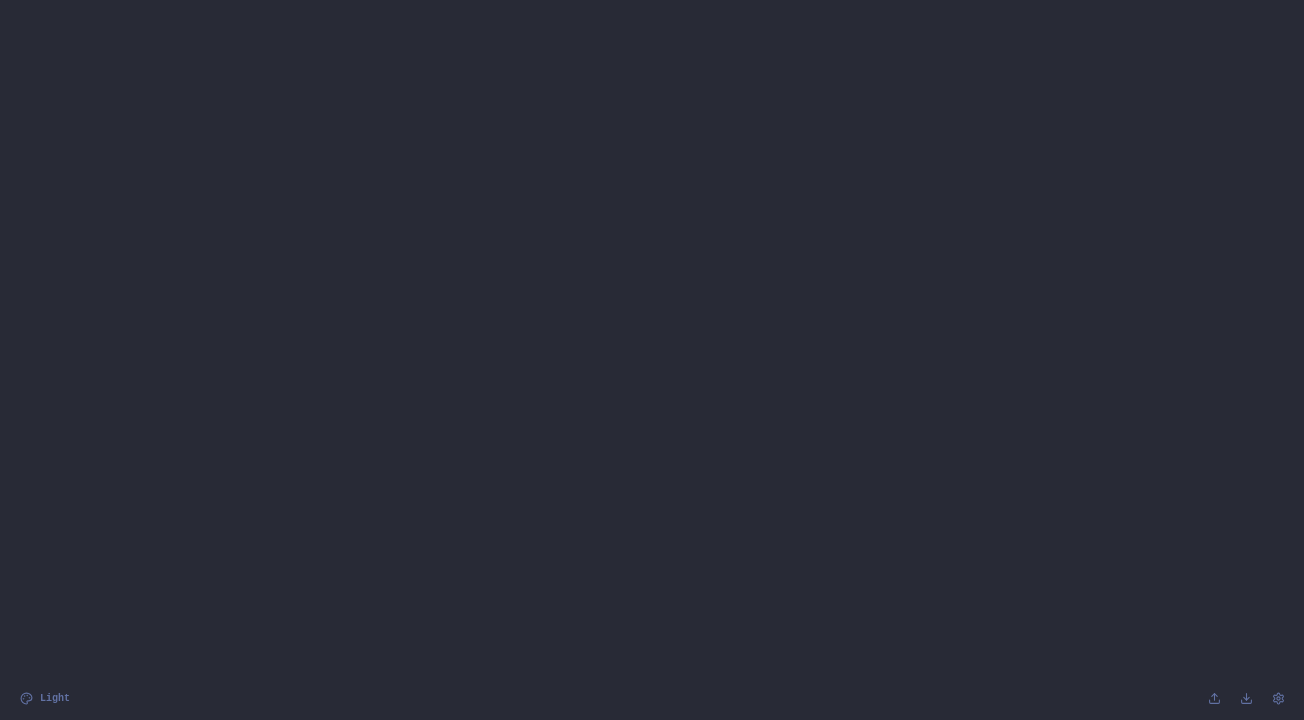
Test case: Settings 采样选择功能 › 采样选择UI渲染 › 应该渲染所有10个鼓件
打开 modal
Click the button titled "About".
click(1278, 698)  # box [1264,684,1292,712]
(page scrolled)
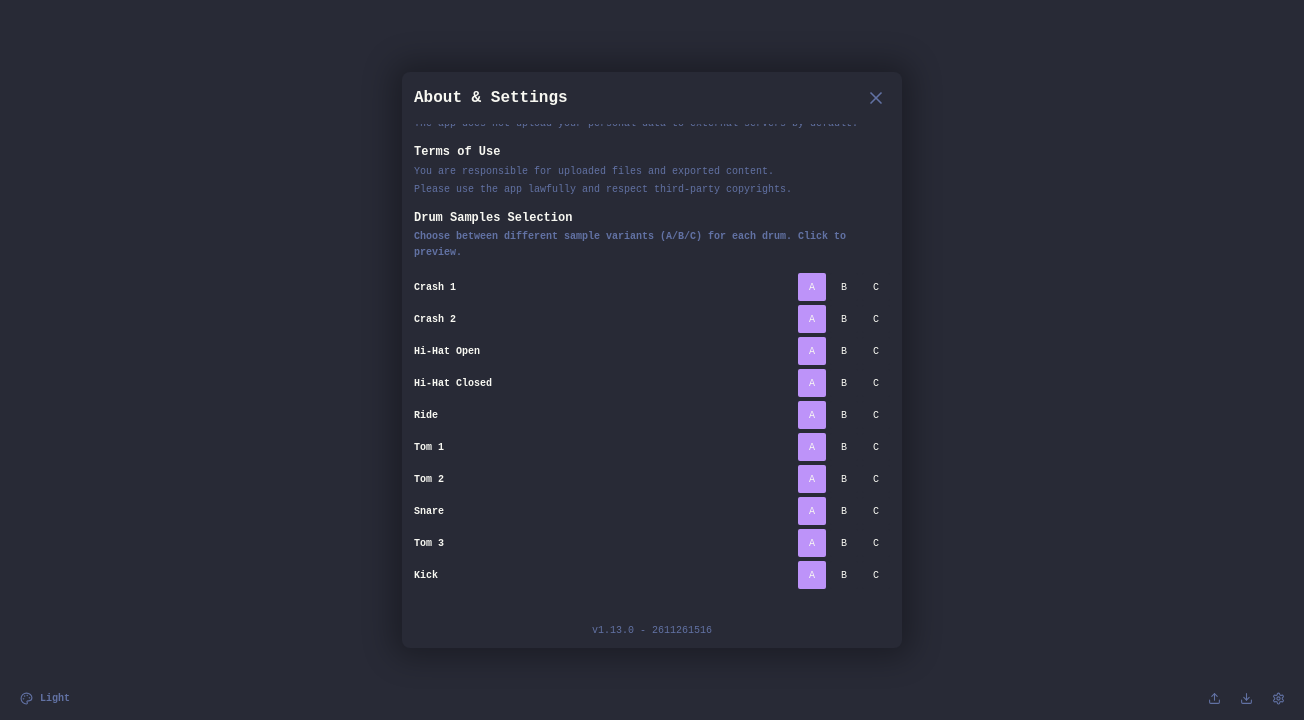
Expected: the text "Crash 1" is shown, [414,282,456,292]
Expected: the text "Crash 2" is shown, [414,314,456,324]
Expected: the text "Hi-Hat Open" is shown, [414,346,480,356]
